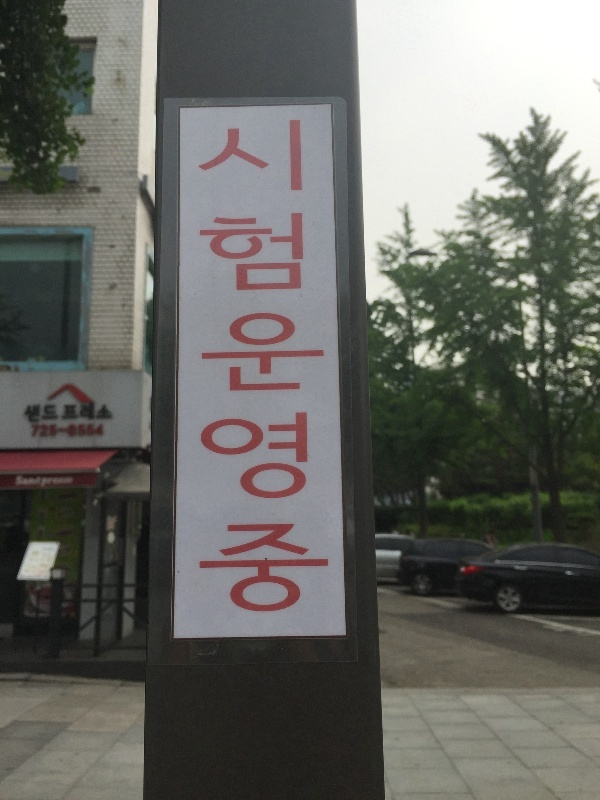text: (209, 116, 224, 619), (225, 116, 240, 619), (241, 116, 256, 619), (257, 116, 272, 619), (273, 116, 288, 619), (289, 116, 304, 619), (305, 116, 320, 619), (198, 116, 208, 619), (321, 116, 331, 619), (65, 402, 80, 420), (81, 402, 96, 420), (97, 402, 112, 420), (33, 424, 48, 438), (49, 424, 64, 438), (65, 424, 80, 438), (81, 424, 96, 438), (23, 404, 32, 425), (49, 404, 59, 421), (33, 404, 41, 425), (97, 424, 103, 438), (45, 404, 48, 421), (30, 424, 32, 438), (113, 402, 114, 420)
